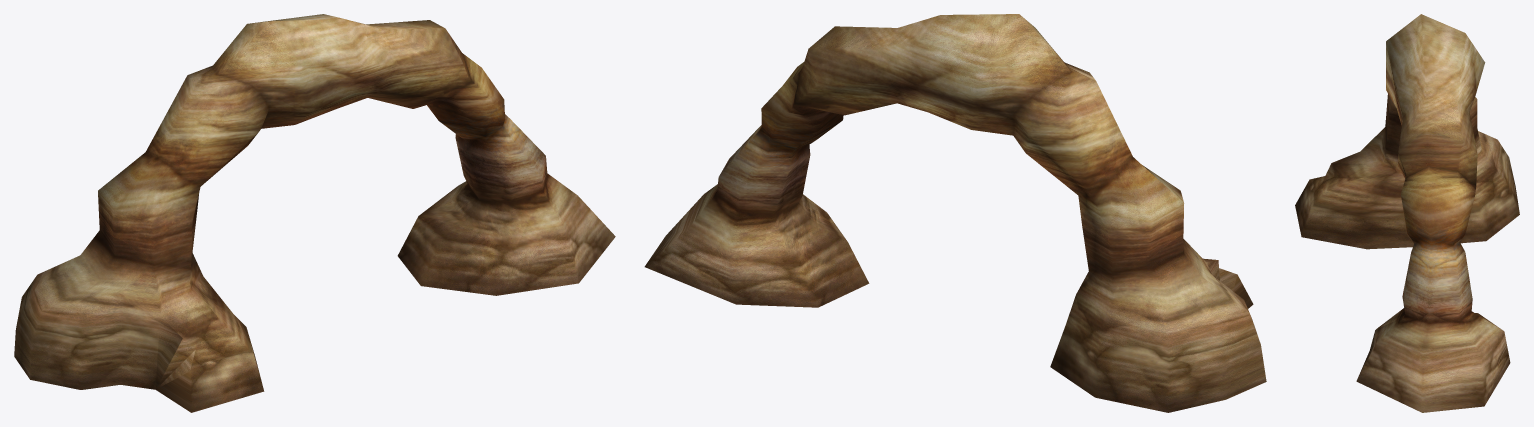
The model's file is obj_masaprdost01.glb.
3 renders of one model, left to right at view 1: azimuth 30°, elevation 25°; view 2: azimuth 150°, elevation 25°; view 3: azimuth 270°, elevation 25°, orthographic. The views are drawn at different scales.
Visible parts, largest first — view 1: part_0; view 2: part_0; view 3: part_0.
Part boxes in pixels (x1,y1,x2,y2): part_0: (14, 14, 615, 412); part_0: (644, 14, 1266, 412); part_0: (1295, 14, 1519, 412).
Bounding box in the file's own units: 26.15 × 12.79 × 10.19.
Materials: 1 (1 with a texture image).
